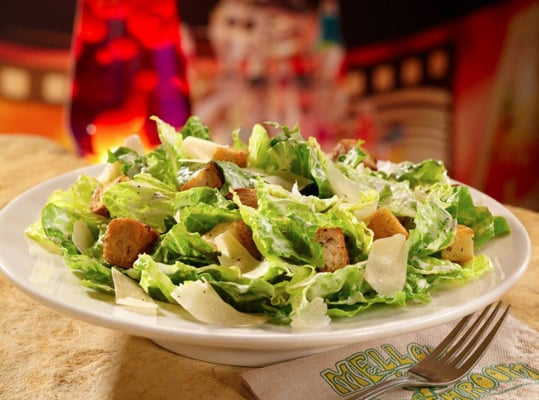burger: (331, 303, 511, 400)
